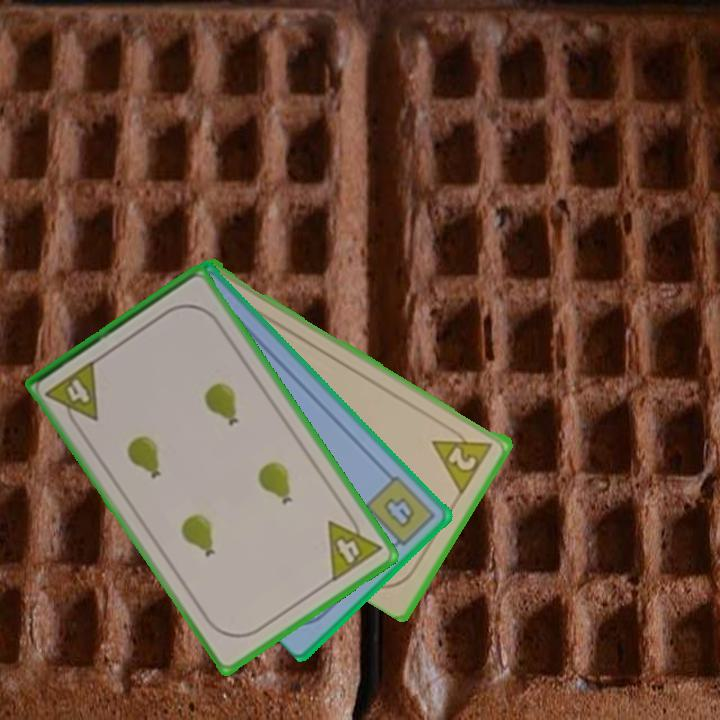2p: (429, 422, 497, 495)
4b: (362, 472, 438, 554)
4p: (324, 506, 385, 585), (42, 356, 103, 433)
